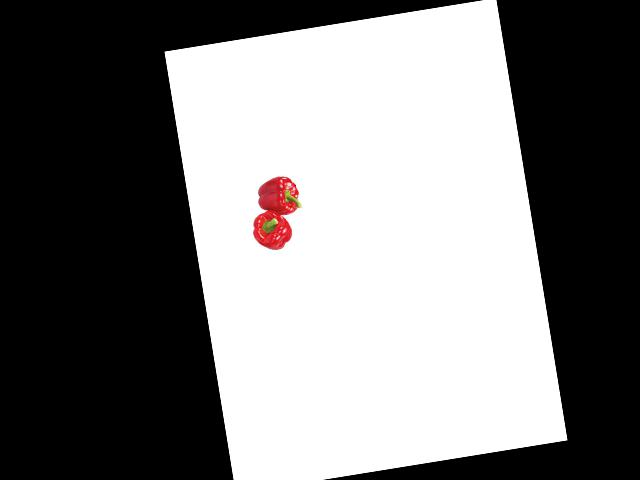bell_pepper: (251, 172, 304, 220)
